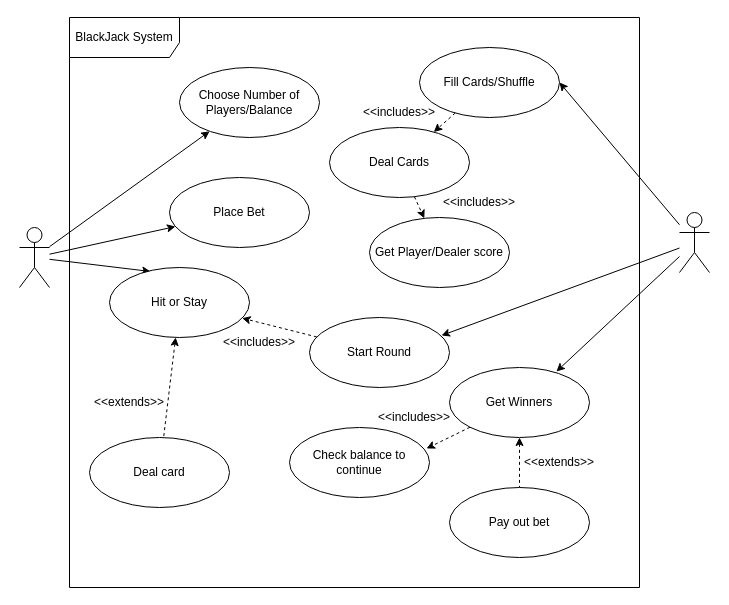
Image size: 729x605. Some labels were removed from this diagram. Each missing label, with the centre of its shape:
Dealer: the point at 694,242
Player: the point at 34,257
